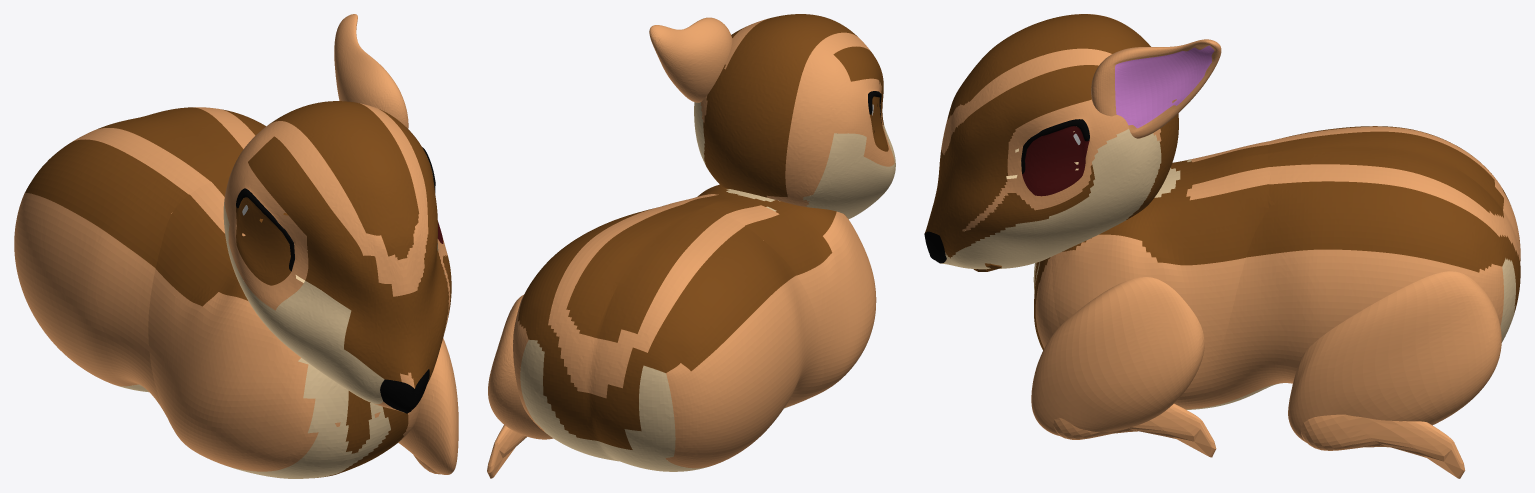
Rendered from kanchil.glb.
3 views of the same model, side by side, from view 1: azimuth 30°, elevation 25°; view 2: azimuth 150°, elevation 25°; view 3: azimuth 270°, elevation 25° (orthographic). The views are drawn at different scales.
Parts seen in each view (by area): view 1: kanchil; view 2: kanchil; view 3: kanchil.
Part boxes in pixels (x1,y1,x2,y2): kanchil: (14,14,458,478); kanchil: (487,14,895,478); kanchil: (924,14,1520,478).
Bounding box in the file's own units: 29.45 × 42.7 × 55.88.
